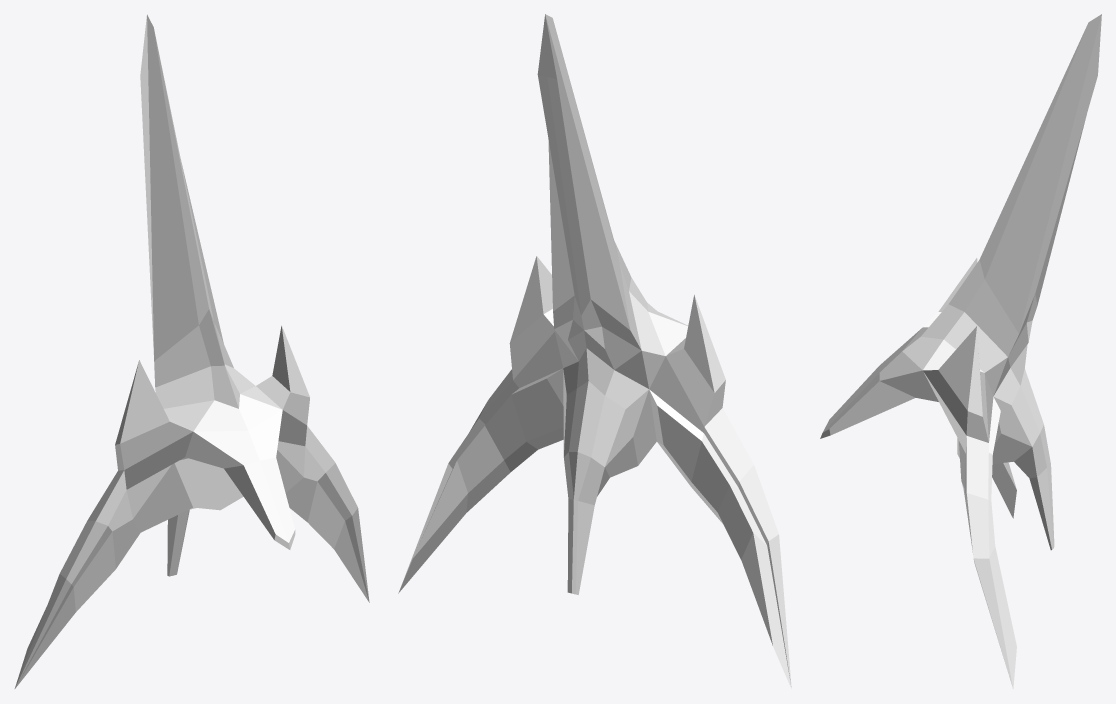
The model's file is head_41.fbx.
3 views of the same model, side by side, from view 1: azimuth 30°, elevation 25°; view 2: azimuth 150°, elevation 25°; view 3: azimuth 270°, elevation 25° (orthographic). The views are drawn at different scales.
Visible parts, largest first — view 1: Cube.172; view 2: Cube.172; view 3: Cube.172.
Part boxes in pixels (x1=…): Cube.172: x1=14, y1=14, x2=369, y2=688; Cube.172: x1=398, y1=14, x2=791, y2=688; Cube.172: x1=820, y1=14, x2=1101, y2=688.
Bounding box in the file's own units: 113 × 183 × 79.07.
